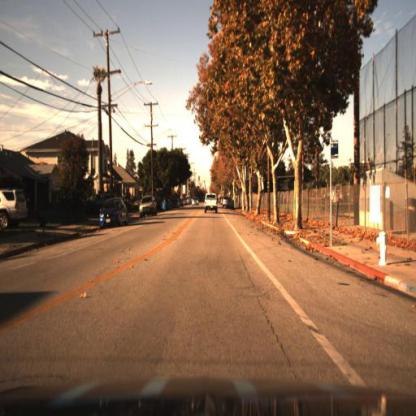car: (1, 185, 30, 236), (98, 198, 129, 231), (138, 192, 159, 219), (140, 194, 161, 218), (203, 190, 220, 215), (192, 192, 202, 210)
